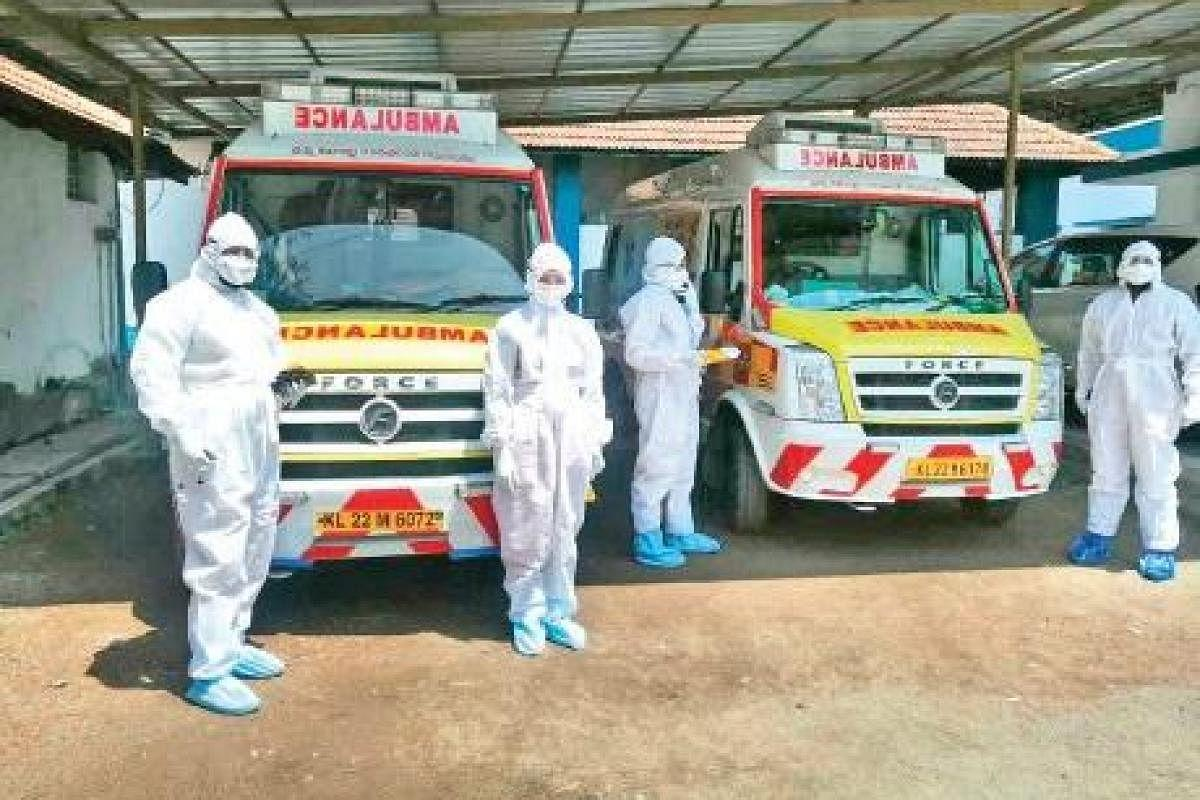ER: (617, 110, 1064, 521), (197, 70, 562, 572)
